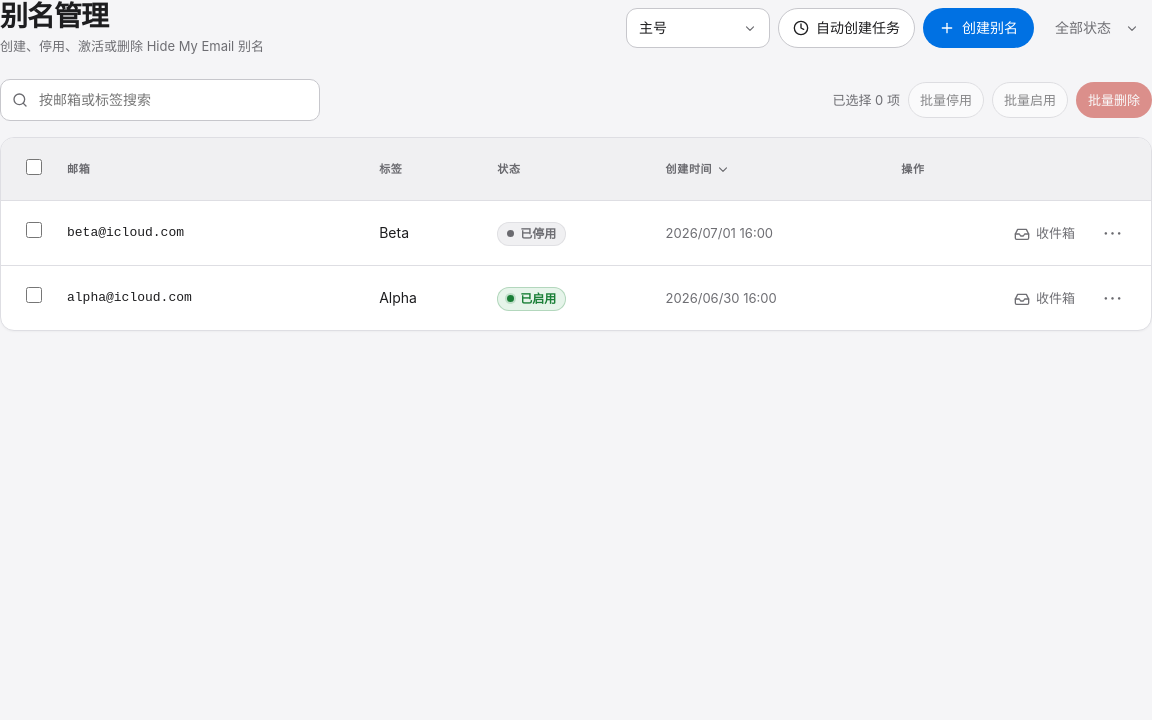
Test: AliasesPage › 停用别名:显示目标邮箱并二次确认
Expected: the button "alpha@icloud.com" is shown, x1=67 y1=278 x2=192 y2=318
Click the button named "更多操作" at (1113,298), box x1=1093 y1=278 x2=1133 y2=318
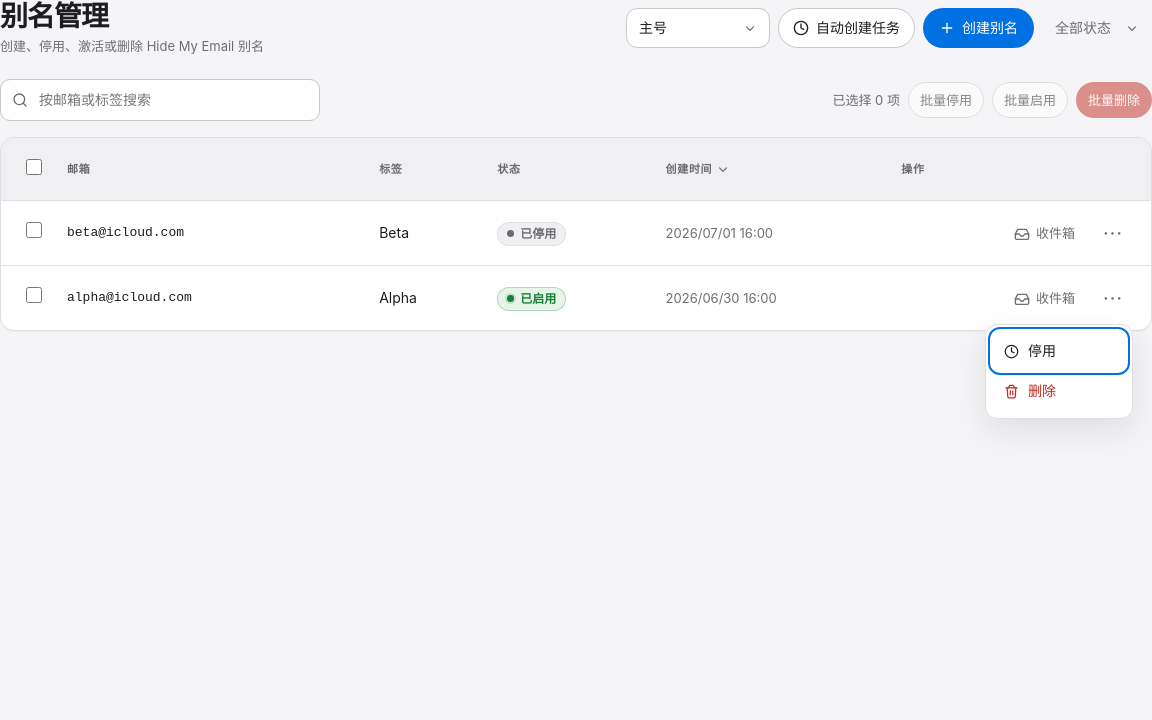
Click the menu item "停用" at (1059,352), box x1=992 y1=331 x2=1126 y2=372
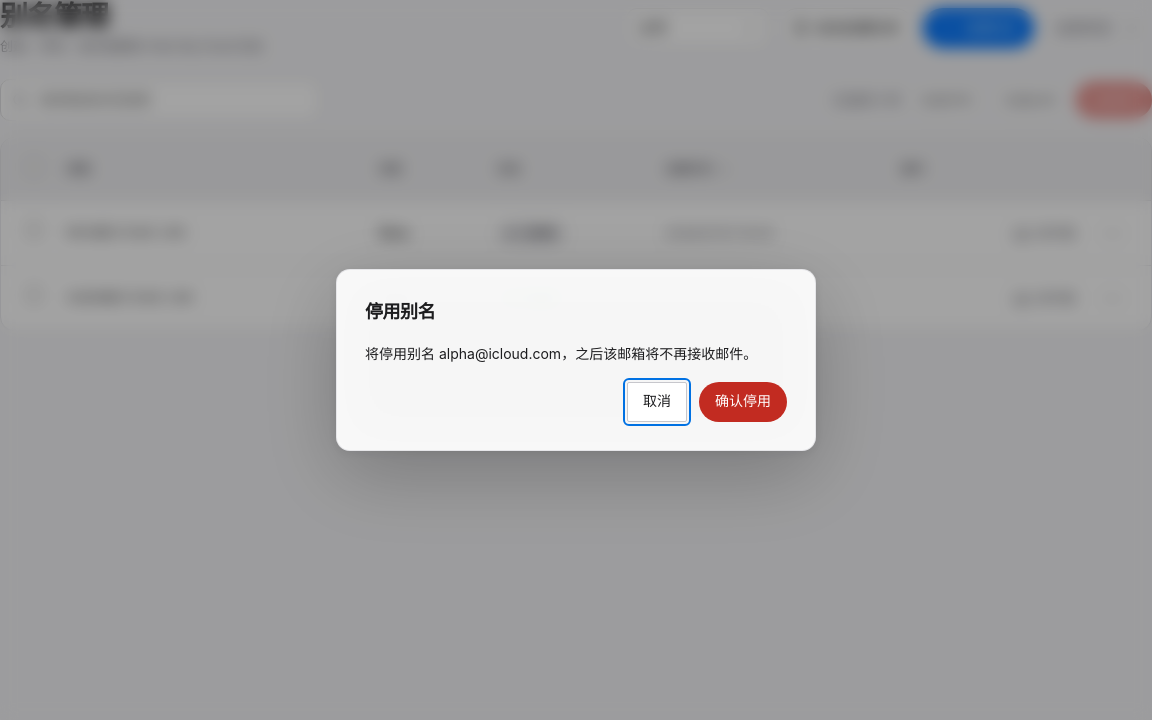
Now the dialog shows "alpha@icloud.com", box x1=365 y1=345 x2=757 y2=362
Click the button "确认停用" at (743,402), box x1=699 y1=382 x2=787 y2=422
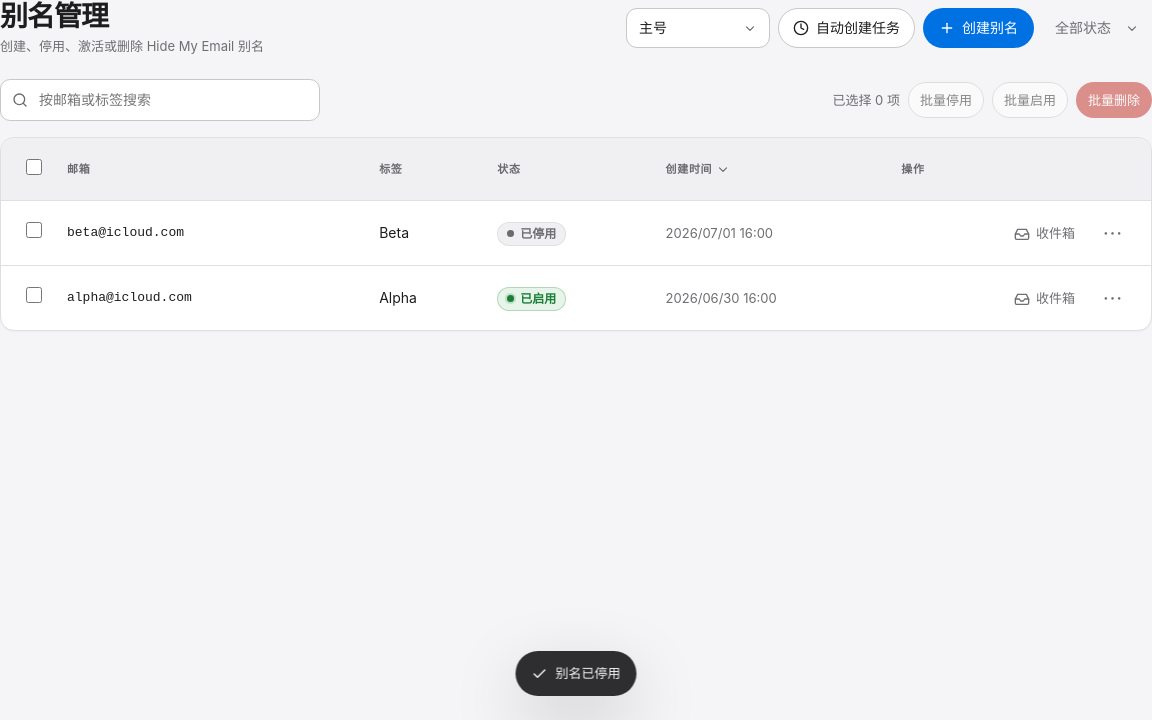
Now the dialog is gone
